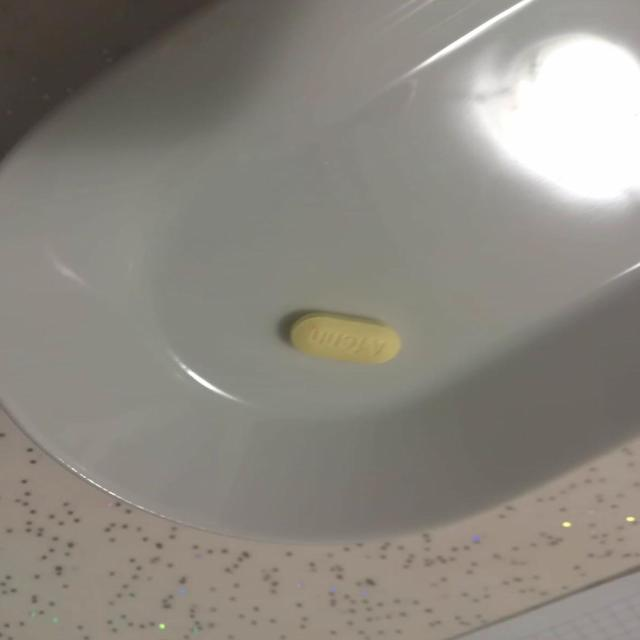pill: (275, 300, 407, 372)
